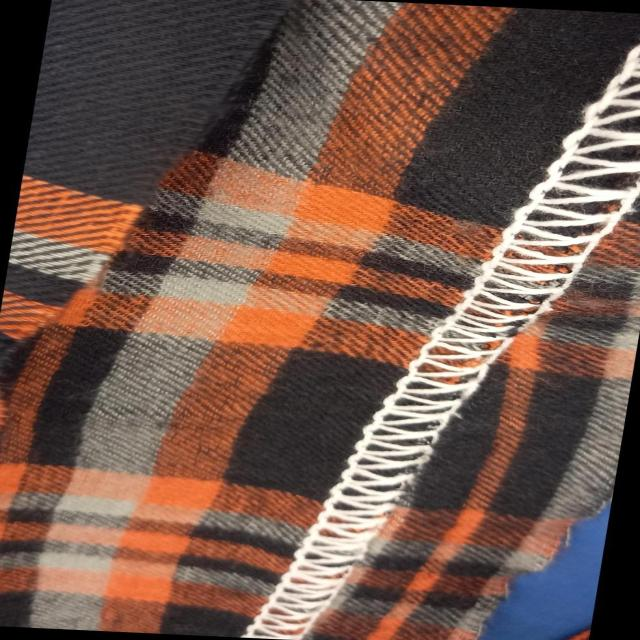gray stitch: (221, 0, 640, 640)
